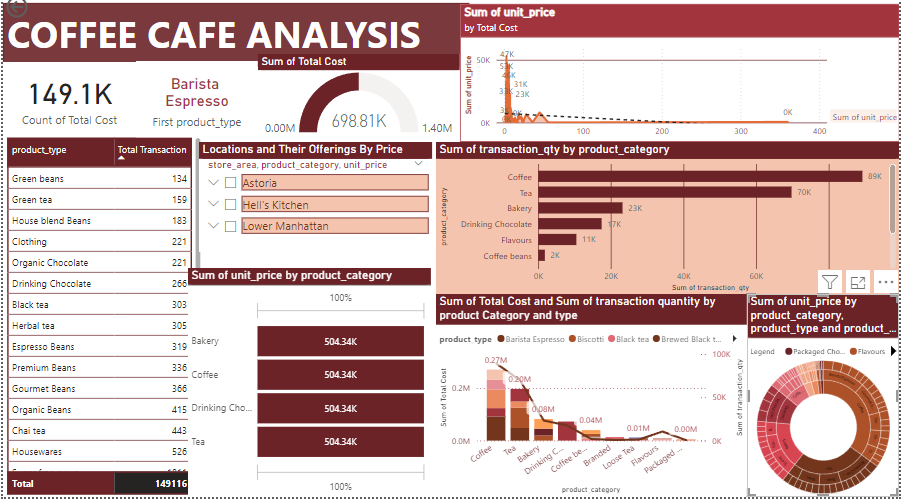

Layout of this report page (visuals, bound fields, positions):
{"tool":"powerbi","page":{"name":"Page 1","canvas":[1280,720],"ordinal":0},"visuals":[{"type":"textbox","box":[0,14.3,665.7,91.4],"z":0},{"type":"tableEx","fields":{"Values":["Coffee Shop Sales.product_type","CountNonNull(Coffee Shop Sales.unit_price)"]},"box":[0,201.6,288,519.8],"z":1000},{"type":"lineChart","fields":{"Y":["Sum(Coffee Shop Sales.unit_price)"],"Category":["Coffee Shop Sales.Total Cost"]},"box":[652.3,15.8,627.8,197.3],"z":2000},{"type":"slicer","title":"Locations and Their Offerings By Price","fields":{"Values":["Coffee Shop Sales.store_location","Coffee Shop Sales.product_category","Coffee Shop Sales.unit_price"]},"box":[279.4,213.1,332.6,157],"z":3000},{"type":"barChart","fields":{"Category":["Coffee Shop Sales.product_category","Coffee Shop Sales.Transaction Month"],"Y":["Sum(Coffee Shop Sales.transaction_qty)"]},"box":[618.8,212.8,661.6,218.9],"z":4000},{"type":"Sunburst1445472000808","fields":{"Nodes":["Coffee Shop Sales.product_category","Coffee Shop Sales.product_type","Coffee Shop Sales.product_detail"],"Values":["Sum(Coffee Shop Sales.unit_price)"]},"box":[1062.2,430.5,218.3,289],"z":5000},{"type":"lineStackedColumnComboChart","title":"Sum of Total Cost and Sum of transaction quantity by product Category and type","fields":{"Category":["Coffee Shop Sales.product_category"],"Y":["Sum(Coffee Shop Sales.Total Cost)"],"Y2":["Sum(Coffee Shop Sales.transaction_qty)"],"Series":["Coffee Shop Sales.product_type"]},"box":[619.2,430.6,443.5,289.4],"z":6000},{"type":"funnel","fields":{"Category":["Product Category and Price.product_category"],"Y":["Sum(Coffee Shop Sales.unit_price)"]},"box":[265,393.1,347,326.9],"z":7000},{"type":"gauge","fields":{"Y":["Sum(Coffee Shop Sales.Total Cost)"]},"box":[364.3,87.8,288,125.3],"z":8000},{"type":"card","fields":{"Values":["CountNonNull(Coffee Shop Sales.Total Cost)"]},"box":[0,97.9,190.1,102.2],"z":9001},{"type":"actionButton","box":[0,0,100,40],"z":9002},{"type":"card","fields":{"Values":["Min(Coffee Shop Sales.product_type)"]},"box":[190.1,96.5,174.2,109.4],"z":9003}]}

Visuals, with their boxes in screenshot pixels (x1, y1, x2, y2), scaled from the page's 1280x720 canvas onto the 905x502 screenshot:
textbox: 0/10/471/74
tableEx - Coffee Shop Sales.product_type x CountNonNull(Coffee Shop Sales.unit_price): 0/141/204/501
lineChart - Sum(Coffee Shop Sales.unit_price) x Coffee Shop Sales.Total Cost: 461/11/904/149
"Locations and Their Offerings By Price" slicer: 198/149/433/258
barChart - Coffee Shop Sales.product_category x Coffee Shop Sales.Transaction Month: 438/148/904/301
Sunburst1445472000808 - Coffee Shop Sales.product_category x Coffee Shop Sales.product_type: 751/300/904/501
"Sum of Total Cost and Sum of transaction quantity by product Category and type" lineStackedColumnComboChart: 438/300/751/501
funnel - Product Category and Price.product_category x Sum(Coffee Shop Sales.unit_price): 187/274/433/501
gauge - Sum(Coffee Shop Sales.Total Cost): 258/61/461/149
card - CountNonNull(Coffee Shop Sales.Total Cost): 0/68/134/140
actionButton: 0/0/71/28
card - Min(Coffee Shop Sales.product_type): 134/67/258/144
